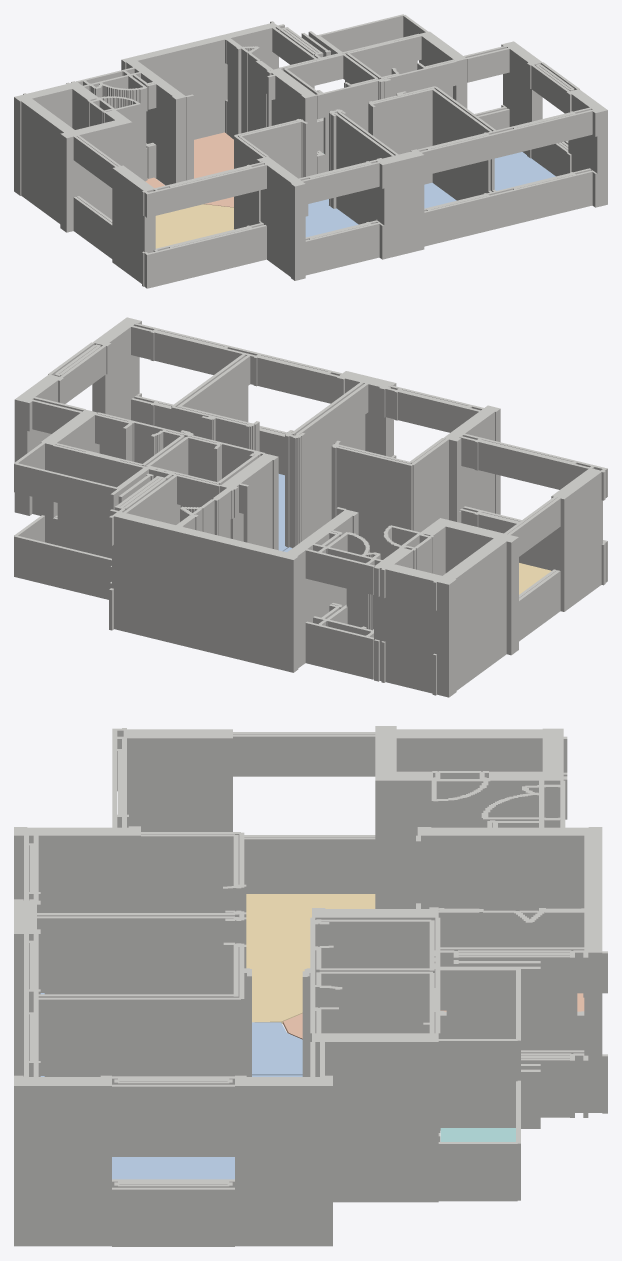
3 renders of one model, top to bottom at view 1: azimuth 30°, elevation 25°; view 2: azimuth 150°, elevation 25°; view 3: azimuth 270°, elevation 25°, orthographic. The views are drawn at different scales.
Visible parts, largest first — view 1: walls, room:living:5, room:kitchen:0, room:bedroom:8, room:bedroom:6, room:bedroom:7; view 2: walls, room:living:5, room:bedroom:7; view 3: walls, room:living:5, room:bedroom:8, room:bedroom:6, room:bath:3.
Boxes of the visible parts, x1,y1,x2,y2 form: walls: (14, 14, 607, 288); room:living:5: (155, 204, 234, 248); room:kitchen:0: (145, 132, 233, 207); room:bedroom:8: (494, 152, 555, 190); room:bedroom:6: (305, 199, 358, 237); room:bedroom:7: (424, 182, 456, 208); walls: (14, 317, 607, 697); room:living:5: (519, 563, 550, 594); room:bedroom:7: (278, 474, 287, 551); walls: (14, 726, 607, 1246); room:living:5: (246, 894, 375, 1023); room:bedroom:8: (112, 1157, 234, 1179); room:bedroom:6: (40, 993, 302, 1075); room:bath:3: (440, 1128, 515, 1141).
Bounding box in the file's own units: 13.51 × 2.8 × 9.41.
